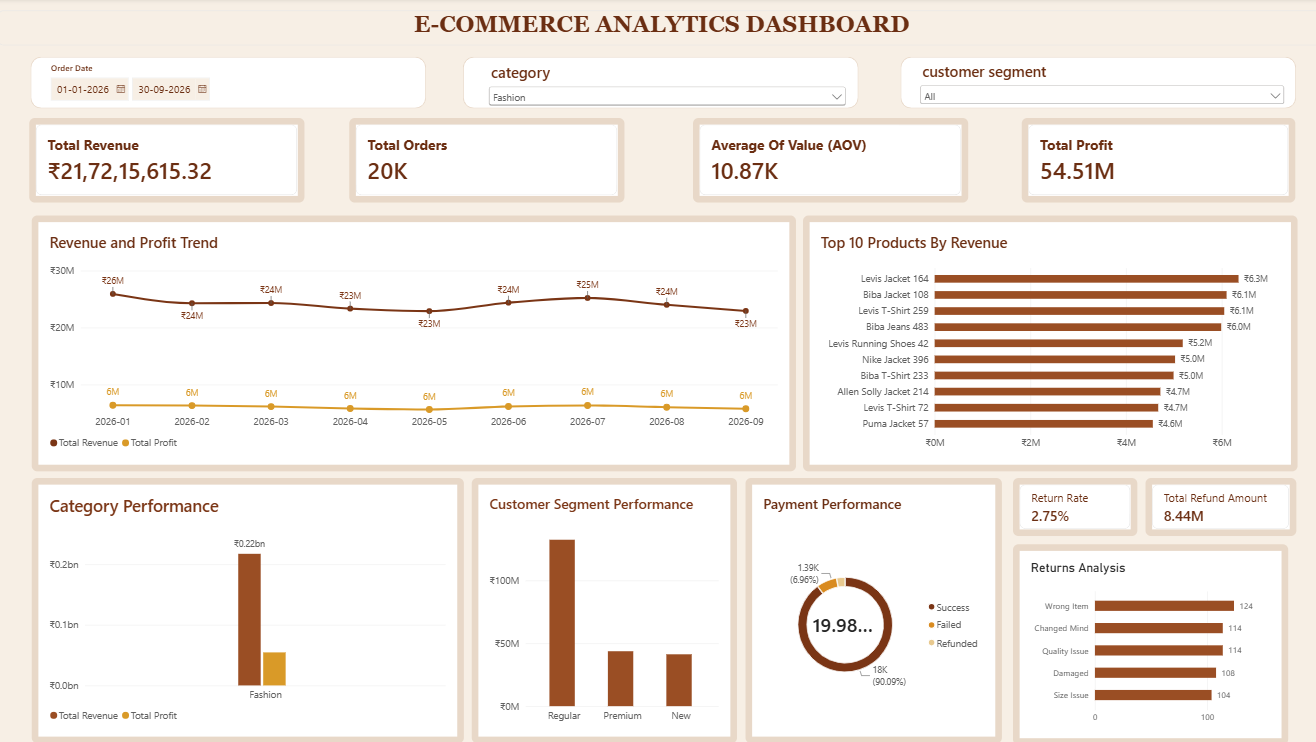

The page's visual inventory and layout, read from the dashboard file:
{"tool":"powerbi","page":{"name":"Page 1","canvas":[1920,1080],"ordinal":0},"visuals":[{"type":"shape","box":[1307,85,572.5,75],"z":0},{"type":"shape","box":[673.3,85,572.5,75],"z":1000},{"type":"shape","box":[46.9,85,572.5,75],"z":2000},{"type":"cardVisual","fields":{"Data":["order_items_clean.Total Revenue"]},"box":[46,174,398,122],"z":3000},{"type":"clusteredColumnChart","title":"Category Performance","fields":{"Category":["products_clean.category"],"Y":["order_items_clean.Total Revenue","order_items_clean.Total Profit"]},"box":[48.6,695.7,625.7,384.3],"z":4000},{"type":"clusteredBarChart","title":"Top 10 Products By Revenue","fields":{"Category":["products_clean.product_name"],"Y":["order_items_clean.Total Revenue"]},"box":[1166,314,716,370],"z":5000},{"type":"clusteredColumnChart","title":"Customer Segment Performance","fields":{"Category":["customers_clean.customer_segment"],"Y":["order_items_clean.Total Revenue"]},"box":[685.7,695.7,384.3,384.3],"z":6000},{"type":"clusteredBarChart","title":"Returns Analysis","fields":{"Category":["returns_clean.return_reason"],"Y":["CountNonNull(returns_clean.return_id)"]},"box":[1470,790,398.6,290],"z":7000},{"type":"donutChart","title":"Payment Performance","fields":{"Category":["payments_clean.payment_status"],"Y":["CountNonNull(payments_clean.payment_id)"]},"box":[1082.9,695.7,371.4,384.3],"z":8000},{"type":"slicer","fields":{"Values":["products_clean.category"]},"box":[705.5,91.8,526.4,69.1],"z":9000},{"type":"slicer","fields":{"Values":["customers_clean.customer_segment"]},"box":[1331,91,537,62],"z":10000},{"type":"textbox","title":"E-COMMERCE ANALYTICS DASHBOARD","box":[0,18.1,1920.1,50.7],"z":11000},{"type":"slicer","title":"Order Date","fields":{"Values":["Calendar.Date"]},"box":[69.1,91.8,541.9,61.2],"z":12000},{"type":"cardVisual","fields":{"Data":["order_items_clean.Total Orders"]},"box":[508,174,398,122],"z":13000},{"type":"cardVisual","fields":{"Data":["order_items_clean.AOV"]},"box":[1006,174,398,122],"z":14000},{"type":"cardVisual","fields":{"Data":["order_items_clean.Total Profit"]},"box":[1482,174,396,122],"z":15000},{"type":"lineChart","title":"Revenue and Profit Trend","fields":{"Category":["Calendar.Year Month"],"Y":["order_items_clean.Total Revenue","order_items_clean.Total Profit"]},"box":[48,314,1106,370],"z":16000},{"type":"cardVisual","fields":{"Data":["returns_clean.Return Rate"]},"box":[1468.6,695.7,180,84.3],"z":17000},{"type":"cardVisual","fields":{"Data":["returns_clean.Total Refund Amount"]},"box":[1661.4,695.7,218.6,84.3],"z":18000}]}

Visuals, with their boxes in screenshot pixels (x1, y1, x2, y2), scaled from the page's 1920x1080 canvas onto the 1316x742 screenshot:
shape: select_region(896, 58, 1288, 110)
shape: select_region(461, 58, 854, 110)
shape: select_region(32, 58, 425, 110)
cardVisual - order_items_clean.Total Revenue: select_region(32, 120, 304, 203)
"Category Performance" clusteredColumnChart: select_region(33, 478, 462, 741)
"Top 10 Products By Revenue" clusteredBarChart: select_region(799, 216, 1290, 470)
"Customer Segment Performance" clusteredColumnChart: select_region(470, 478, 733, 741)
"Returns Analysis" clusteredBarChart: select_region(1008, 543, 1281, 741)
"Payment Performance" donutChart: select_region(742, 478, 997, 741)
slicer - products_clean.category: select_region(484, 63, 844, 111)
slicer - customers_clean.customer_segment: select_region(912, 63, 1280, 105)
"E-COMMERCE ANALYTICS DASHBOARD" textbox: select_region(0, 12, 1315, 47)
"Order Date" slicer: select_region(47, 63, 419, 105)
cardVisual - order_items_clean.Total Orders: select_region(348, 120, 621, 203)
cardVisual - order_items_clean.AOV: select_region(690, 120, 962, 203)
cardVisual - order_items_clean.Total Profit: select_region(1016, 120, 1287, 203)
"Revenue and Profit Trend" lineChart: select_region(33, 216, 791, 470)
cardVisual - returns_clean.Return Rate: select_region(1007, 478, 1130, 536)
cardVisual - returns_clean.Total Refund Amount: select_region(1139, 478, 1289, 536)
